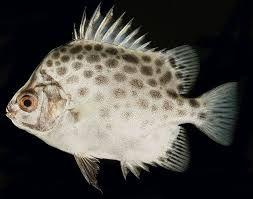Scat Fish: (7, 5, 250, 196)
